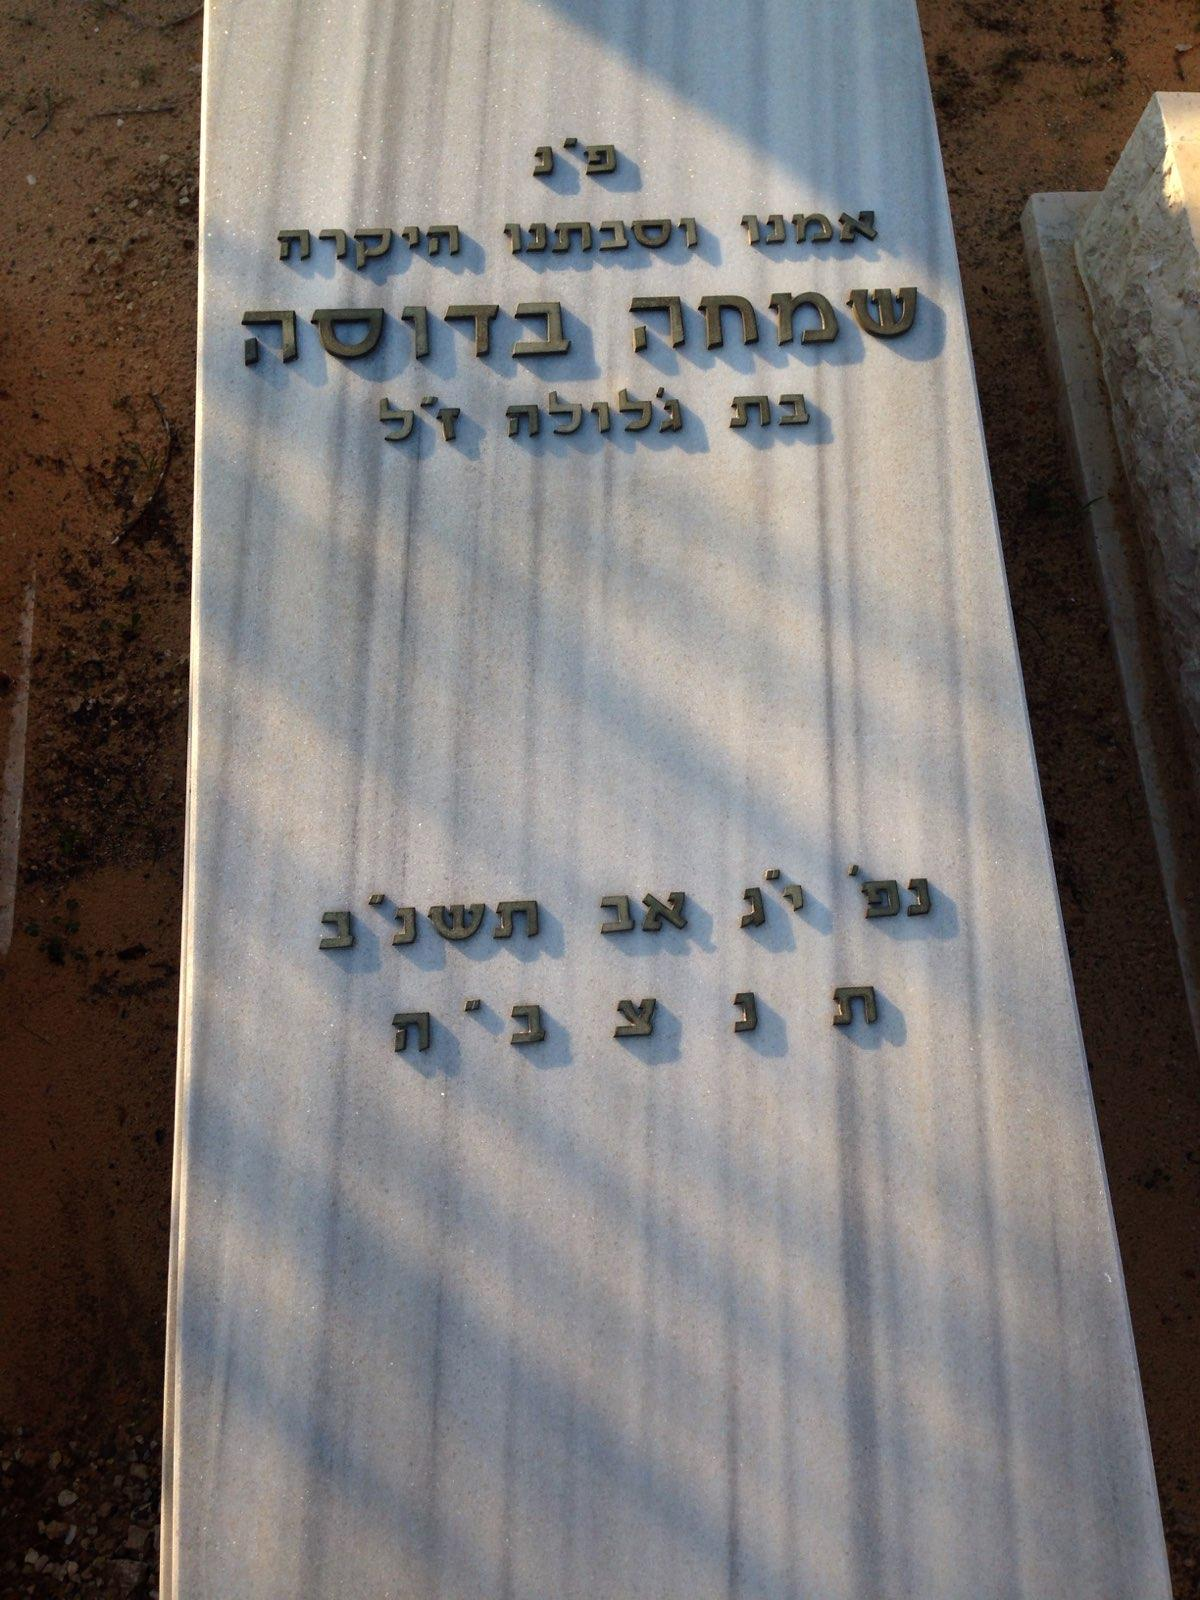vault: (136, 13, 1172, 1600)
